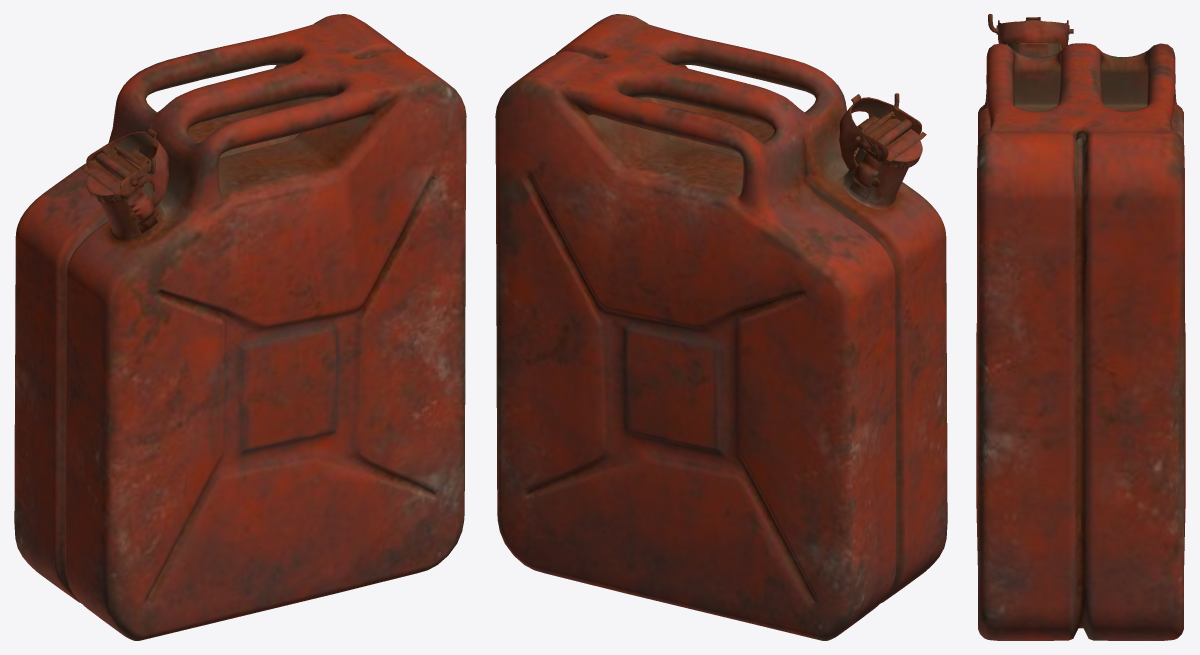
File: jerrycan.glb
3 views of the same model, side by side, from view 1: azimuth 30°, elevation 25°; view 2: azimuth 150°, elevation 25°; view 3: azimuth 270°, elevation 25° (orthographic). The views are drawn at different scales.
Visible parts, largest first — view 1: metal_jerrycan; view 2: metal_jerrycan; view 3: metal_jerrycan.
Boxes of the visible parts, left/top/right/bottom form: metal_jerrycan: left=14, top=14, right=466, bottom=640; metal_jerrycan: left=495, top=14, right=947, bottom=640; metal_jerrycan: left=976, top=14, right=1185, bottom=640.
Size of the model in its own units: 0.3617 by 0.47 by 0.1774.
1 material, 1 textured.
